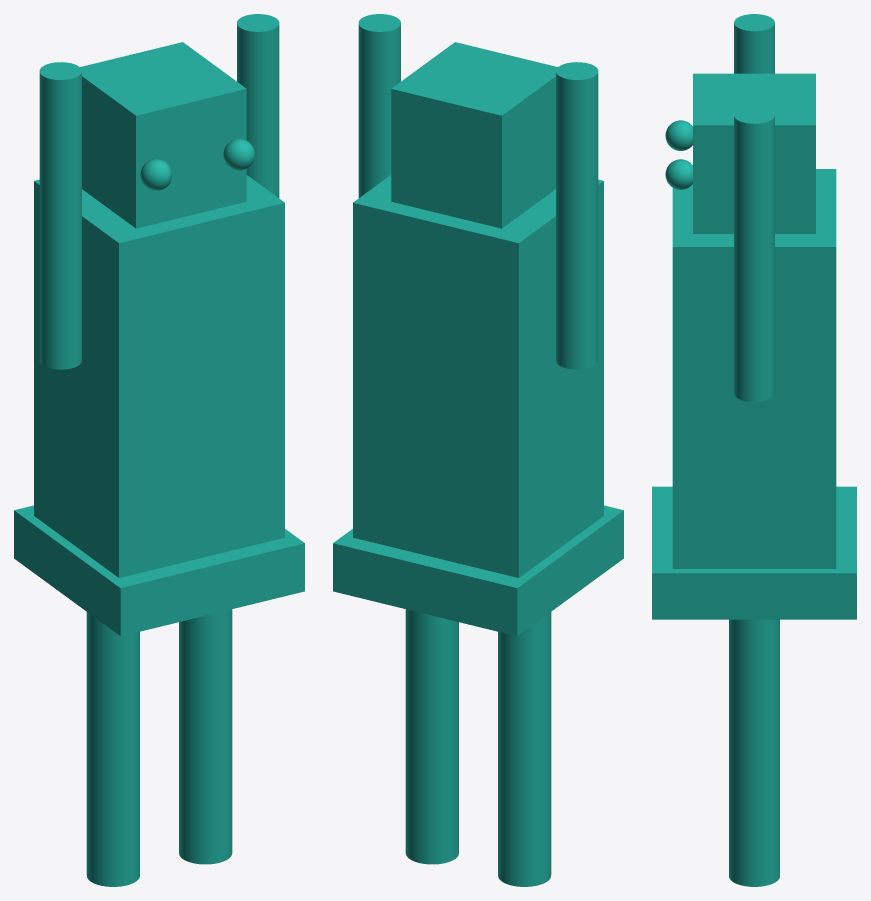
3 renders of one model, left to right at view 1: azimuth 30°, elevation 25°; view 2: azimuth 150°, elevation 25°; view 3: azimuth 270°, elevation 25°, orthographic. The views are drawn at different scales.
Visible parts, largest first — view 1: torso, head, base, leg_left, leg_right, arm_left, arm_right, eye_right, eye_left; view 2: torso, head, base, leg_left, leg_right, arm_left, arm_right; view 3: torso, head, base, leg_right, arm_right, arm_left, eye_right, eye_left.
Boxes of the visible parts, x1,y1,x2,y2 form: torso: [34, 175, 284, 577]; head: [80, 42, 246, 228]; base: [14, 505, 304, 636]; leg_left: [86, 612, 139, 886]; leg_right: [179, 609, 232, 864]; arm_left: [39, 62, 81, 369]; arm_right: [237, 14, 279, 197]; eye_right: [223, 138, 255, 170]; eye_left: [140, 159, 172, 190]; torso: [353, 175, 603, 577]; head: [391, 42, 557, 228]; base: [333, 505, 623, 636]; leg_left: [498, 612, 551, 886]; leg_right: [405, 609, 458, 864]; arm_left: [556, 62, 598, 369]; arm_right: [358, 14, 400, 197]; torso: [672, 169, 836, 568]; head: [693, 73, 815, 233]; base: [652, 486, 856, 619]; leg_right: [729, 619, 779, 886]; arm_right: [734, 106, 774, 401]; arm_left: [734, 14, 774, 73]; eye_right: [665, 159, 692, 189]; eye_left: [665, 120, 692, 150].
Bounding box in the file's own units: 0.254 × 0.847 × 0.2.
